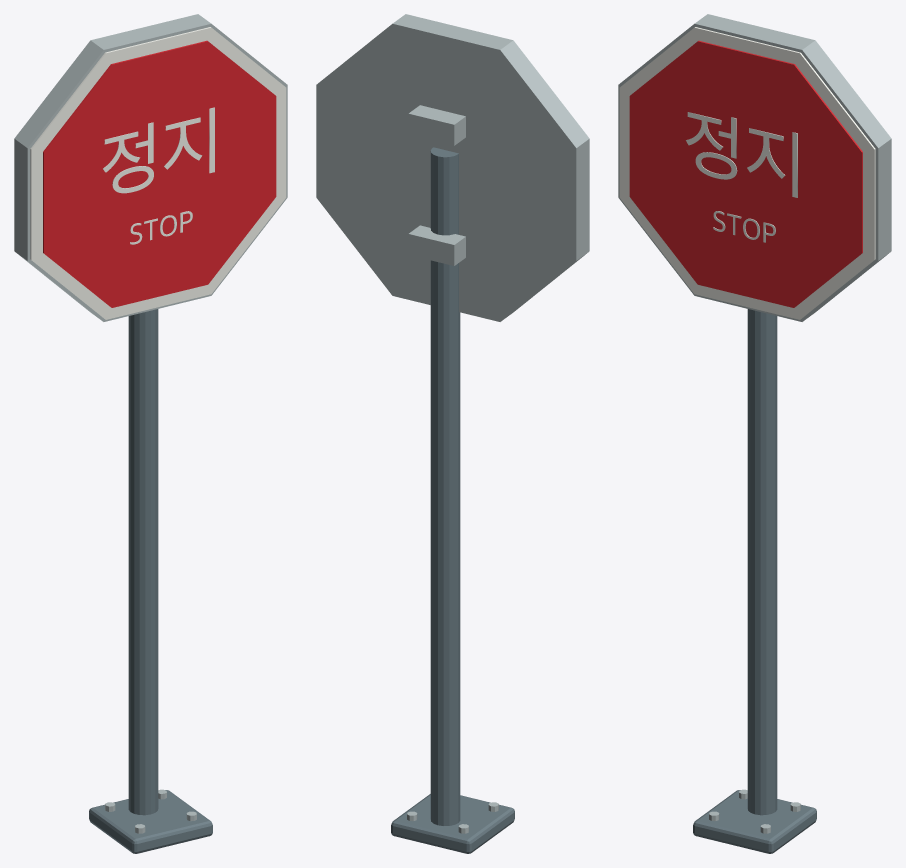
Rendered from SIMUS_Sign_Stop.glb.
The picture shows the model from 3 angles, left to right: view 1: azimuth 30°, elevation 25°; view 2: azimuth 150°, elevation 25°; view 3: azimuth 330°, elevation 25°; orthographic projection.
Parts seen in each view (by area): view 1: Red face, Post.001, White rim, Octagon back, Foot plate.001, Legend 정지; view 2: Octagon back, Post.001, Foot plate.001, Rear clamp.003, Rear clamp.002; view 3: Red face, Post.001, White rim, Octagon back, Foot plate.001, Legend 정지.
Boxes of the visible parts, box(x1,y1,x2,y2) form: Red face: box(43, 40, 276, 307); Post.001: box(128, 309, 158, 815); White rim: box(30, 27, 286, 319); Octagon back: box(14, 14, 287, 321); Foot plate.001: box(89, 790, 212, 853); Legend 정지: box(103, 107, 214, 193); Octagon back: box(316, 14, 589, 321); Post.001: box(430, 147, 460, 825); Foot plate.001: box(391, 794, 514, 853); Rear clamp.003: box(408, 105, 465, 145); Rear clamp.002: box(408, 225, 465, 265); Red face: box(629, 40, 862, 307); Post.001: box(747, 309, 777, 815); White rim: box(619, 27, 875, 319); Octagon back: box(618, 14, 891, 321); Foot plate.001: box(693, 790, 816, 853); Legend 정지: box(686, 112, 797, 197).
Size of the model in its own units: 0.9054 by 2.65 by 0.28.
